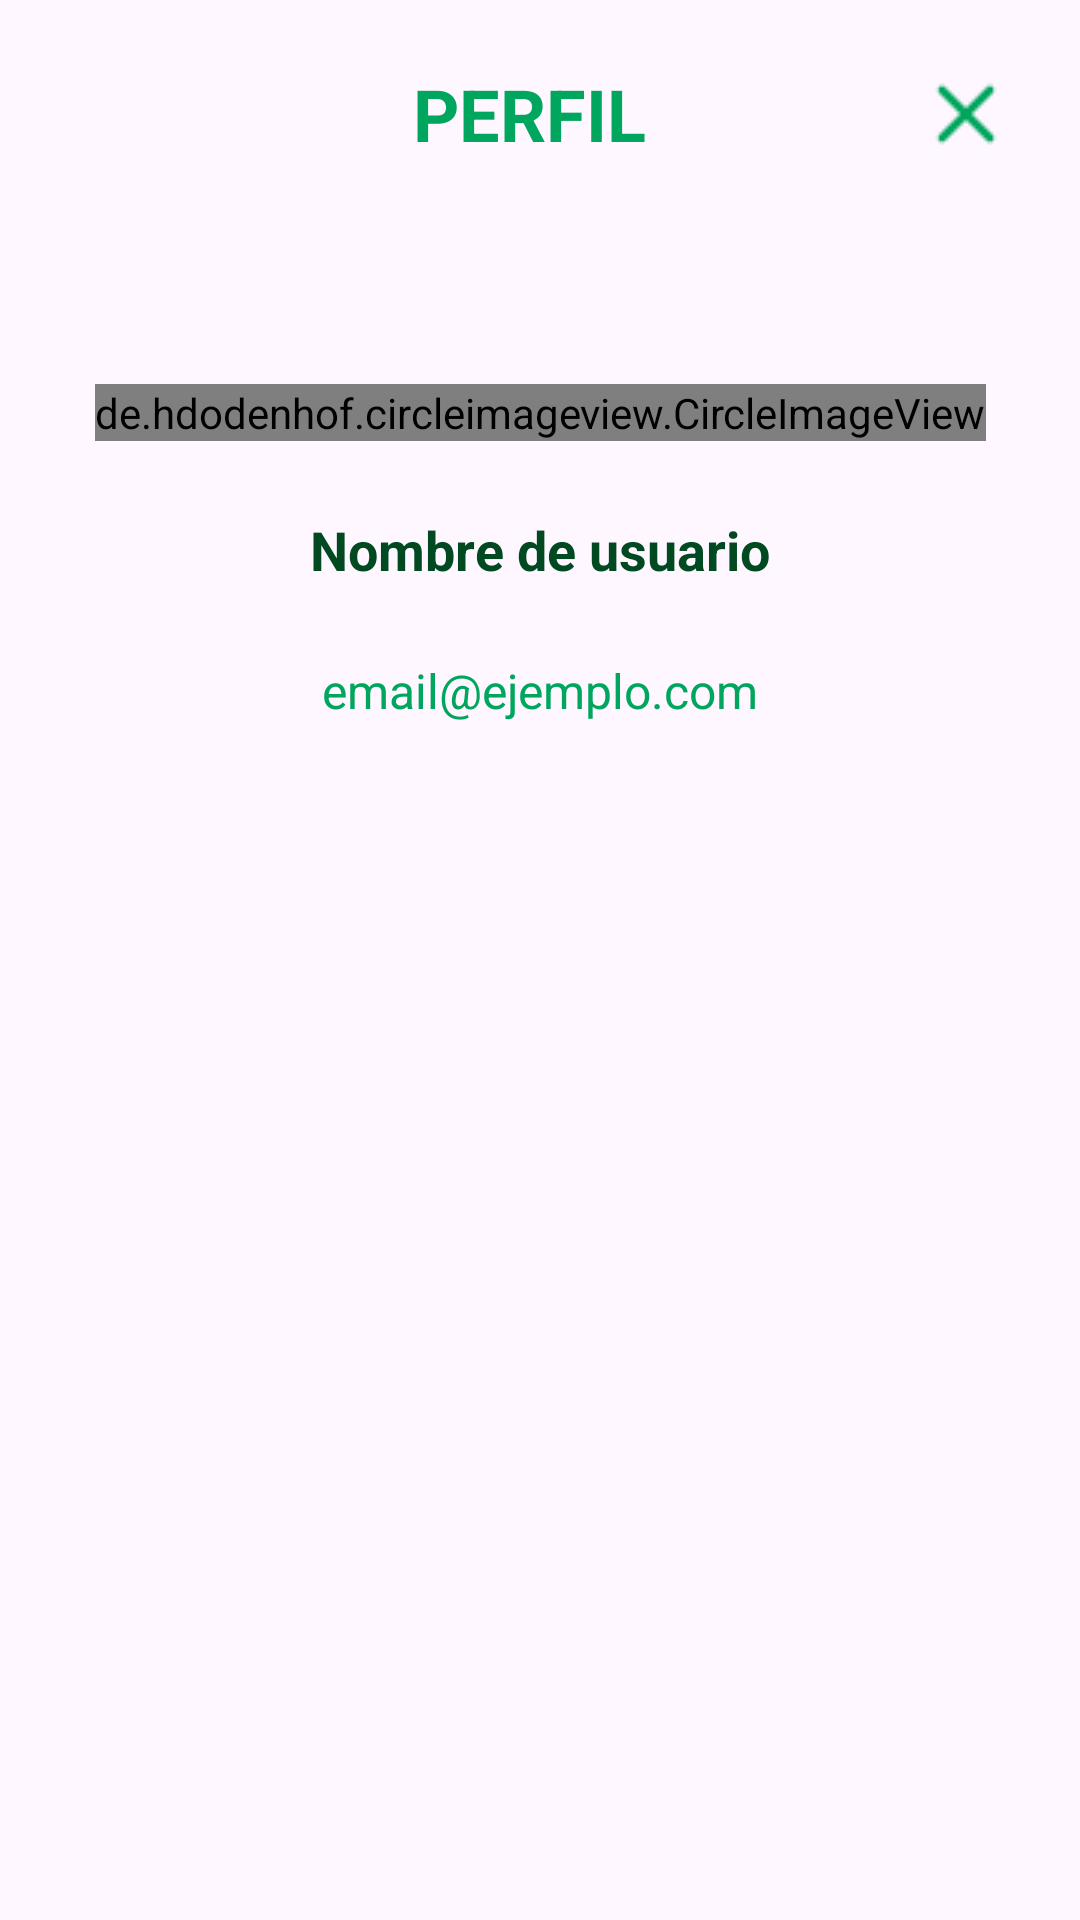

Icons on this 1080*1920 Android screen, each with its box as {"left": x1, "top": y1, "right": x2, "bottom": y2}:
xgreen: {"left": 936, "top": 84, "right": 996, "bottom": 144}
